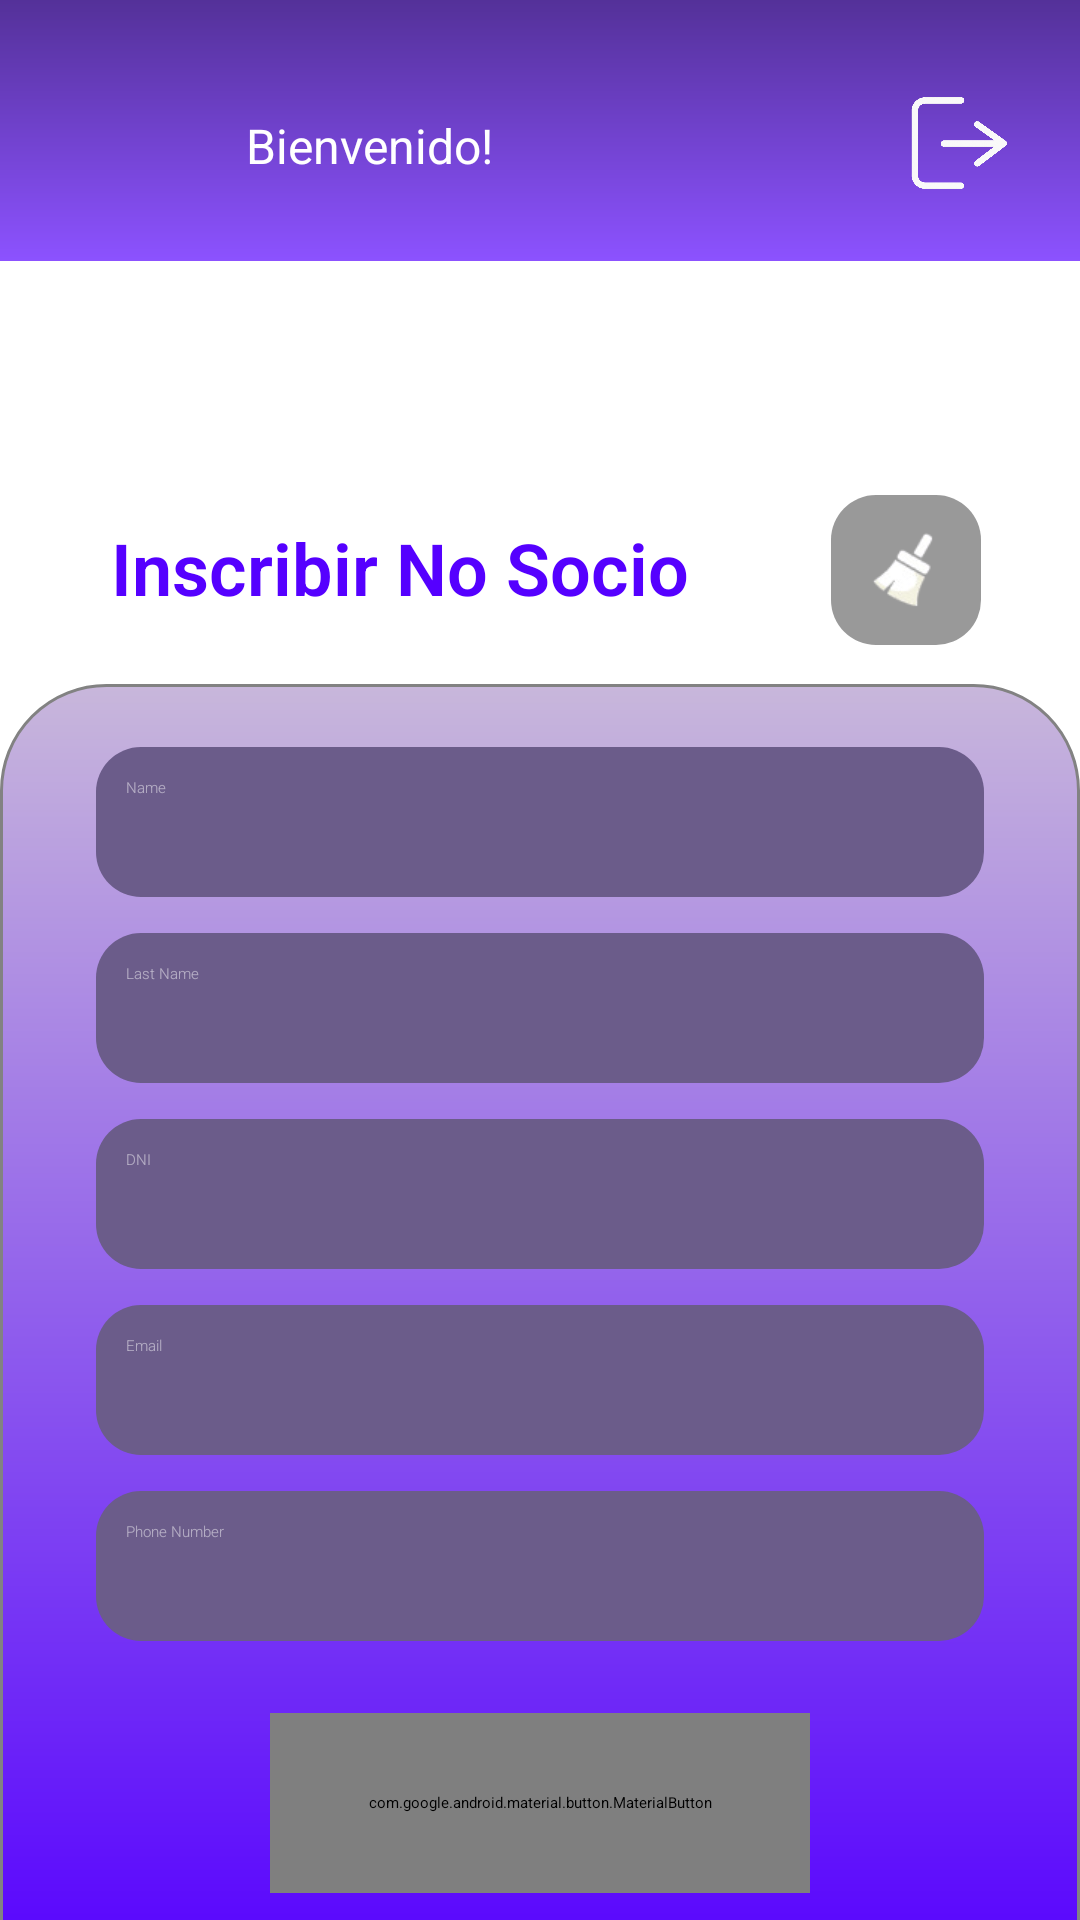

Icons on this 1080px×1920px Android screen, each with the point to tap as (x=x, y=y):
clear: (x=906, y=570)
salir: (x=957, y=145)
